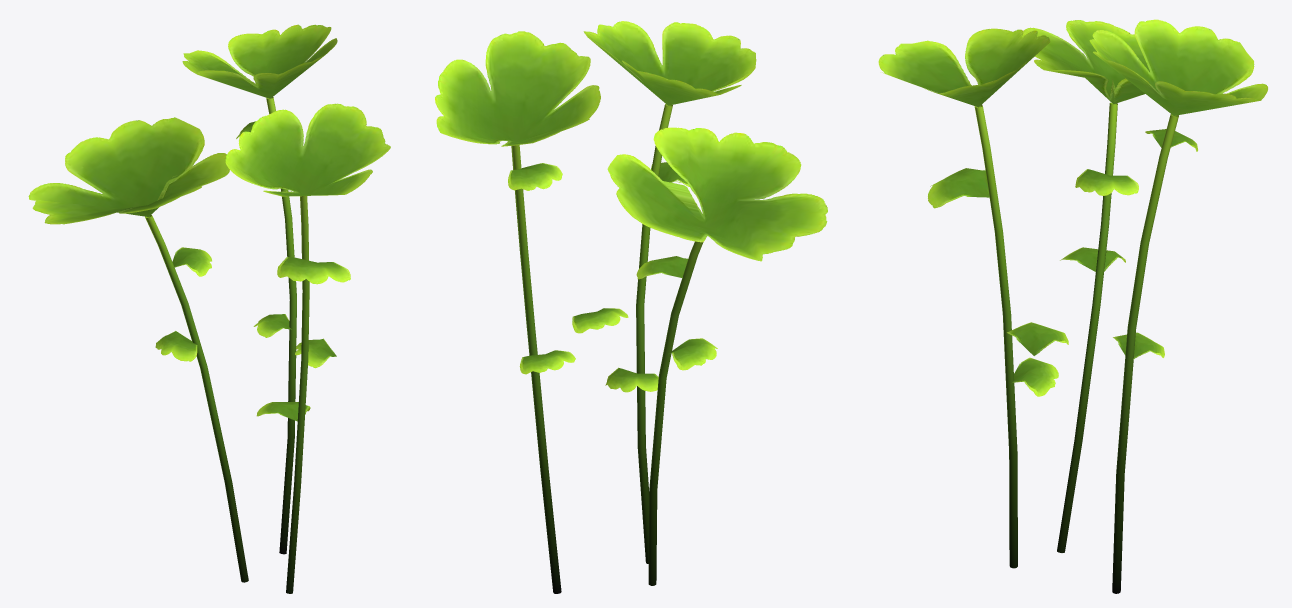
Rendered from Clover_1.glb.
3 renders of one model, left to right at view 1: azimuth 30°, elevation 25°; view 2: azimuth 150°, elevation 25°; view 3: azimuth 270°, elevation 25°, orthographic. The views are drawn at different scales.
Visible parts, largest first — view 1: Clover_1; view 2: Clover_1; view 3: Clover_1.
Boxes of the visible parts, x1=… form: Clover_1: x1=28, y1=24, x2=390, y2=593; Clover_1: x1=435, y1=21, x2=827, y2=593; Clover_1: x1=878, y1=19, x2=1267, y2=593.
Bounding box in the file's own units: 0.7963 × 1.14 × 0.7639.
1 material, 1 textured.
